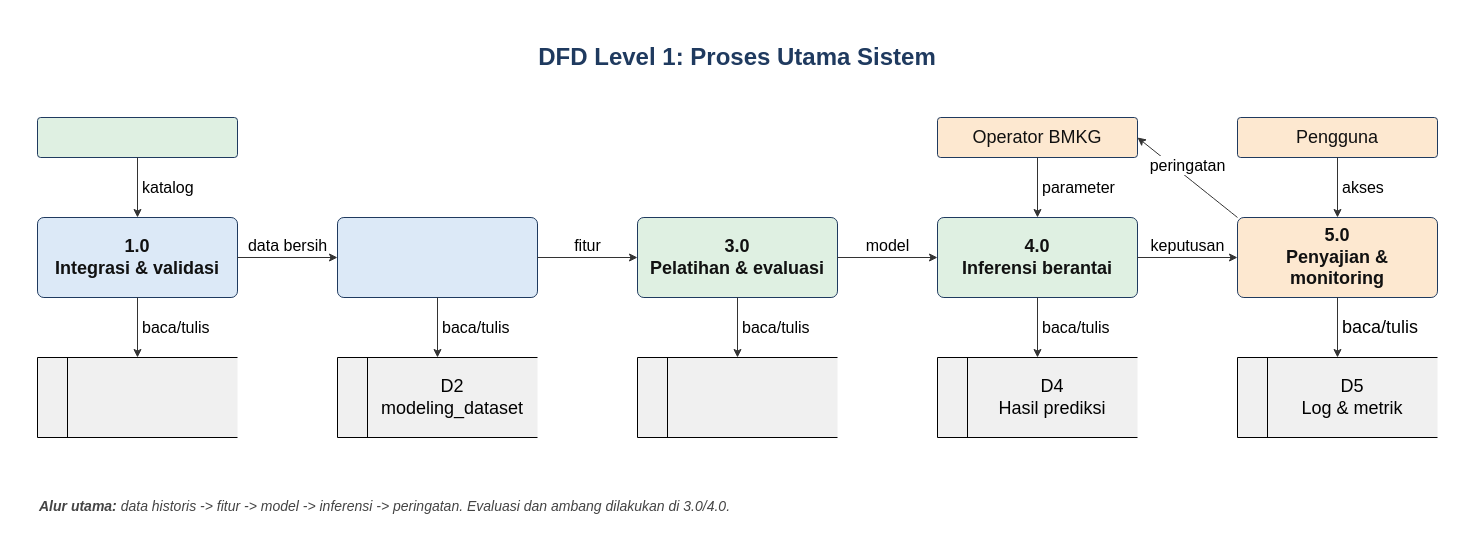
This 1474x554 diagram has some shape labels left out. Here are the shapes that lost their labels. From the top down, the centre of each, then its label:
point (137, 137): NOAA + USGS
point (437, 257): 2.0 Rekayasa fitur
point (137, 397): D1 Data mentah
point (737, 397): D3 Model + ambang
